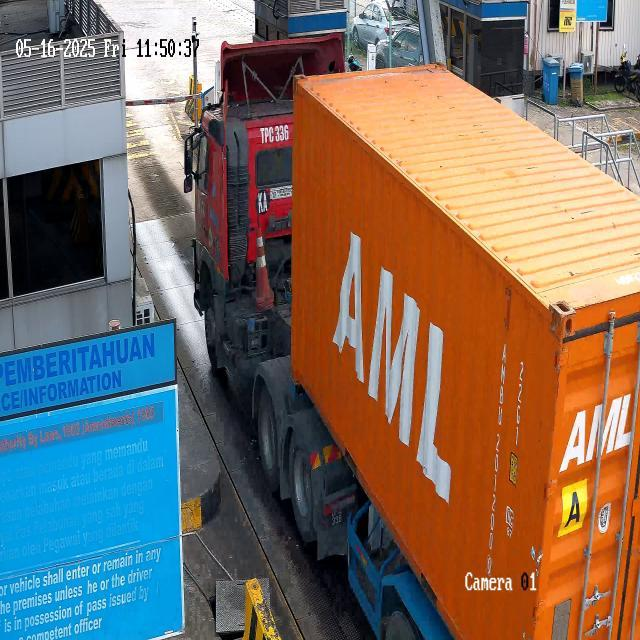ISO: (512, 353, 527, 460)
container_number: (484, 335, 509, 576)
